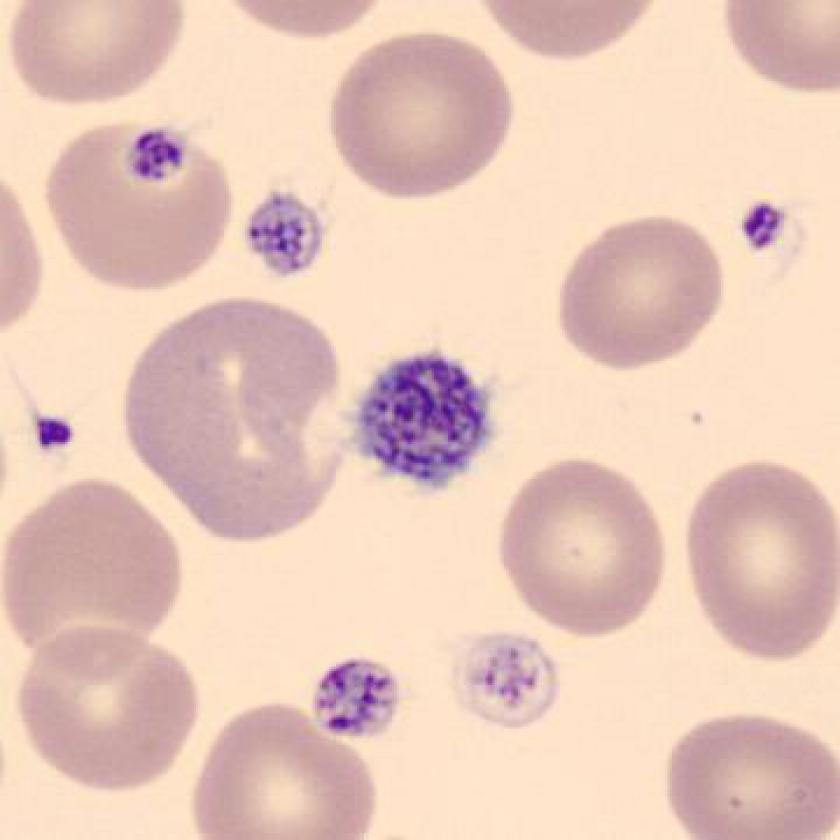platelets: (347, 339, 508, 501), (442, 624, 570, 739), (223, 172, 332, 295), (300, 647, 409, 749), (111, 105, 206, 207), (720, 184, 794, 265)
